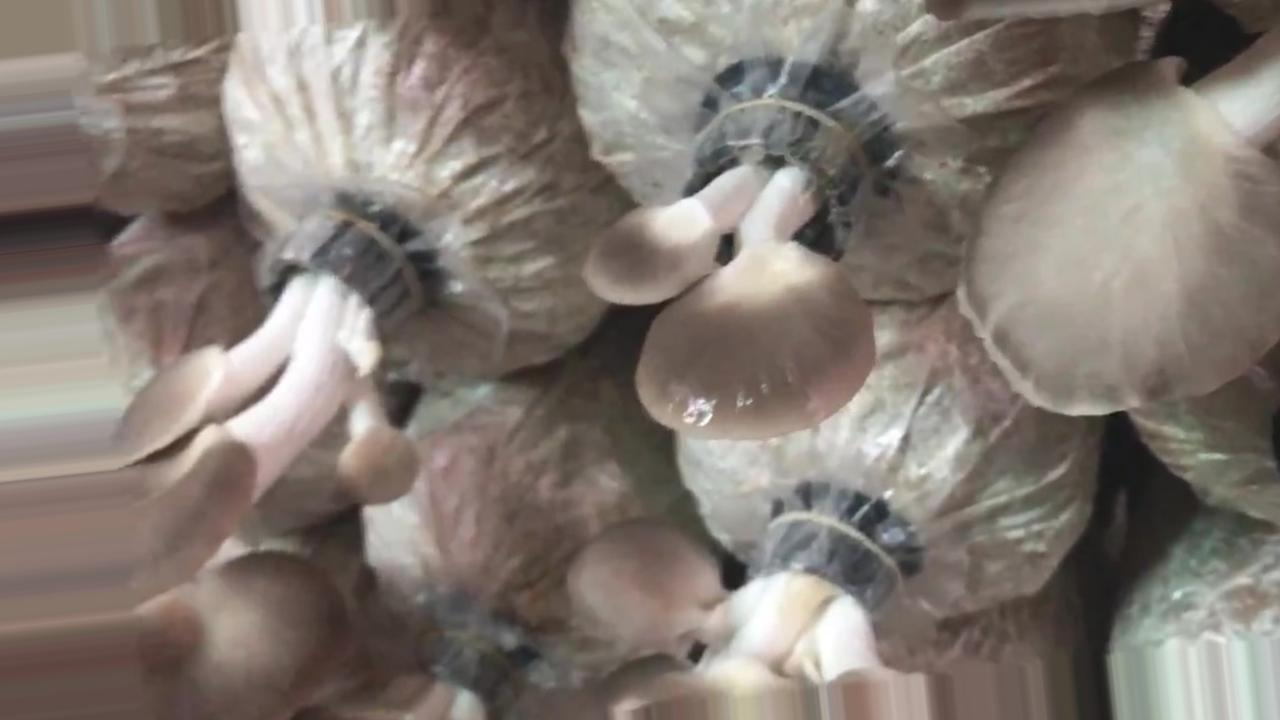nam: (1, 206, 431, 720), (963, 24, 1275, 418), (586, 87, 889, 435), (573, 527, 928, 720)
